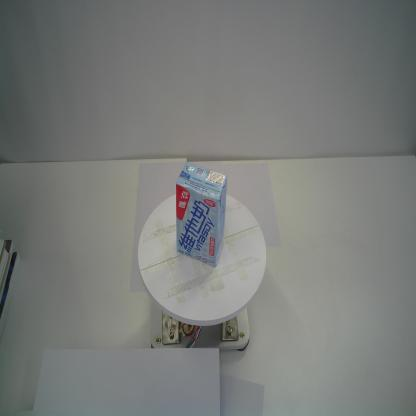Milk: (175, 161, 227, 268)
